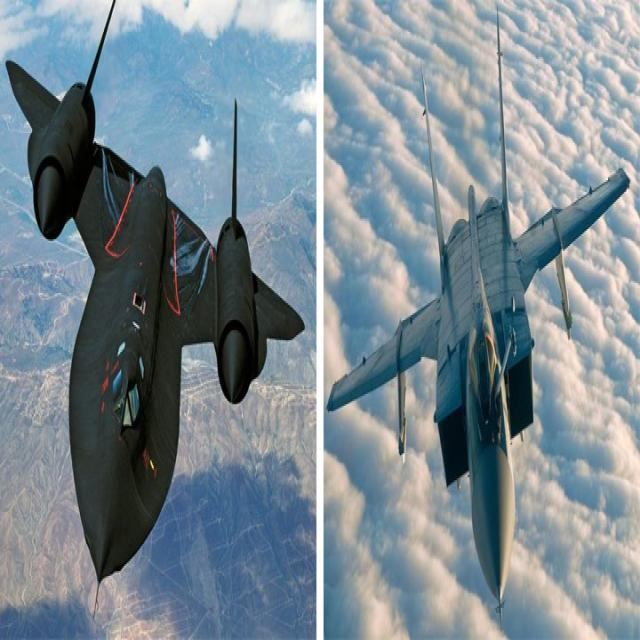MIL_Plane: (325, 3, 631, 635), (5, 2, 305, 620)
